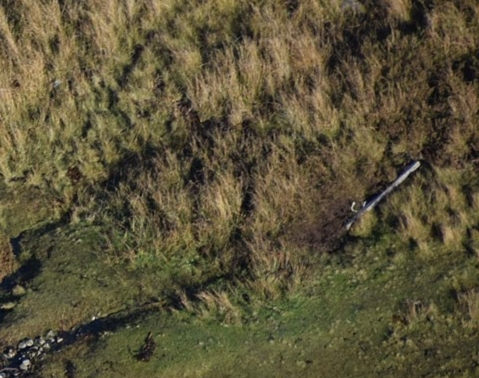straight_bar: (341, 153, 426, 235)
